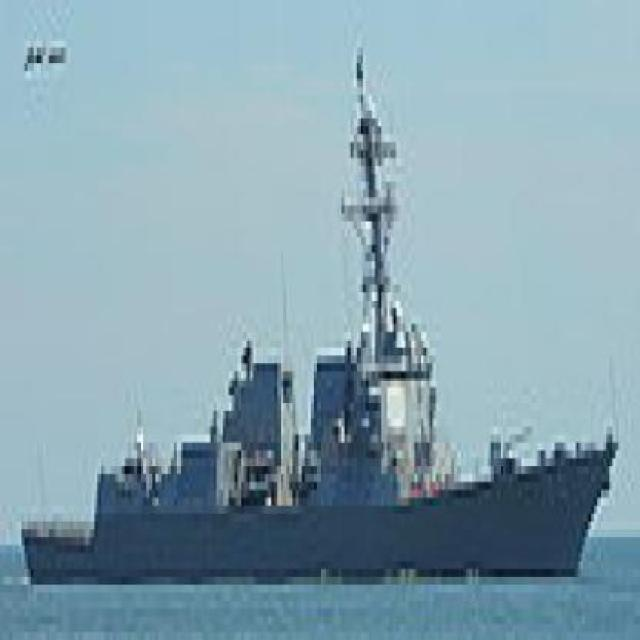warship2: (8, 73, 617, 602)
